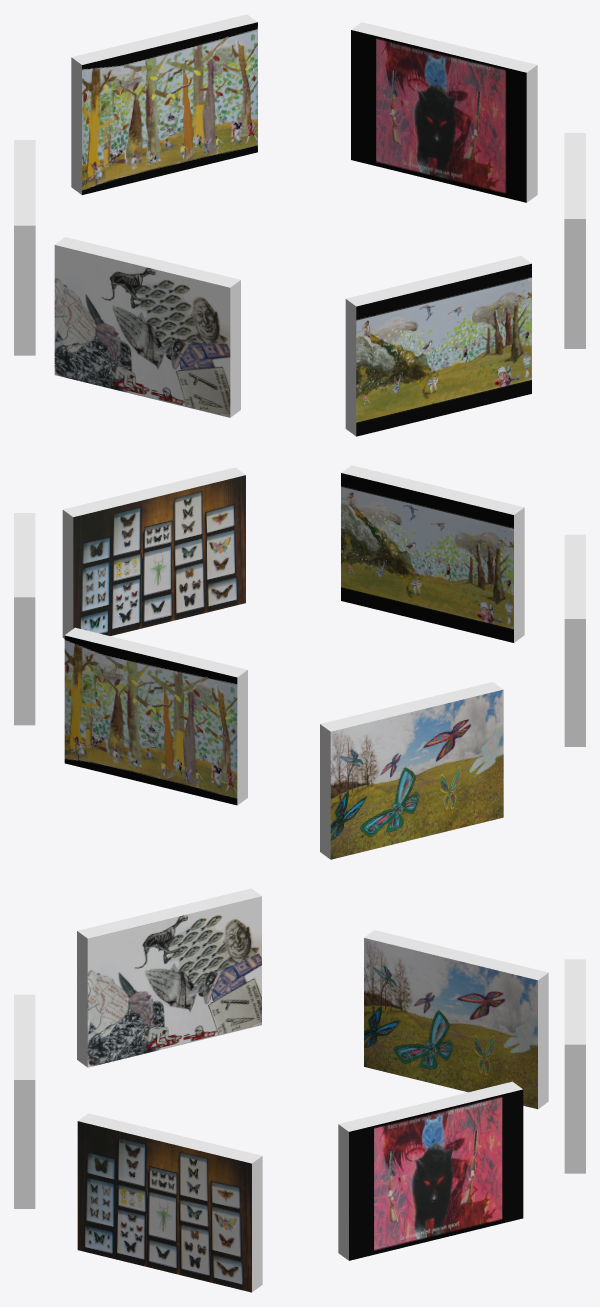
File: 6_paysage.obj
3 renders of one model, top to bottom at view 1: azimuth 30°, elevation 25°; view 2: azimuth 150°, elevation 25°; view 3: azimuth 270°, elevation 25°, orthographic.
Parts seen in each view (by area): view 1: Cube_4, Cube_2, Cube_3, Cube_1, Cube_5, Cube_6; view 2: Cube_1, Cube_2, Cube_6, Cube_5, Cube_3, Cube_4; view 3: Cube_5, Cube_3, Cube_4, Cube_6, Cube_1, Cube_2.
Boxes of the visible parts, x1,y1,x2,y2 form: Cube_4: (54,237,240,417); Cube_2: (345,256,531,436); Cube_3: (351,22,537,202); Cube_1: (71,14,257,194); Cube_5: (564,133,585,348); Cube_6: (14,140,35,355); Cube_1: (64,627,247,805); Cube_2: (341,465,524,642); Cube_6: (320,682,503,859); Cube_5: (62,467,245,638); Cube_3: (14,513,35,725); Cube_4: (564,534,585,746); Cube_5: (77,1113,262,1292); Cube_3: (338,1081,523,1260); Cube_4: (77,888,261,1067); Cube_6: (364,930,548,1109); Cube_1: (564,959,585,1173); Cube_2: (14,994,35,1208).
Bounding box in the file's own units: 1284 × 416 × 1206.
Materials: 7 (6 with a texture image).
